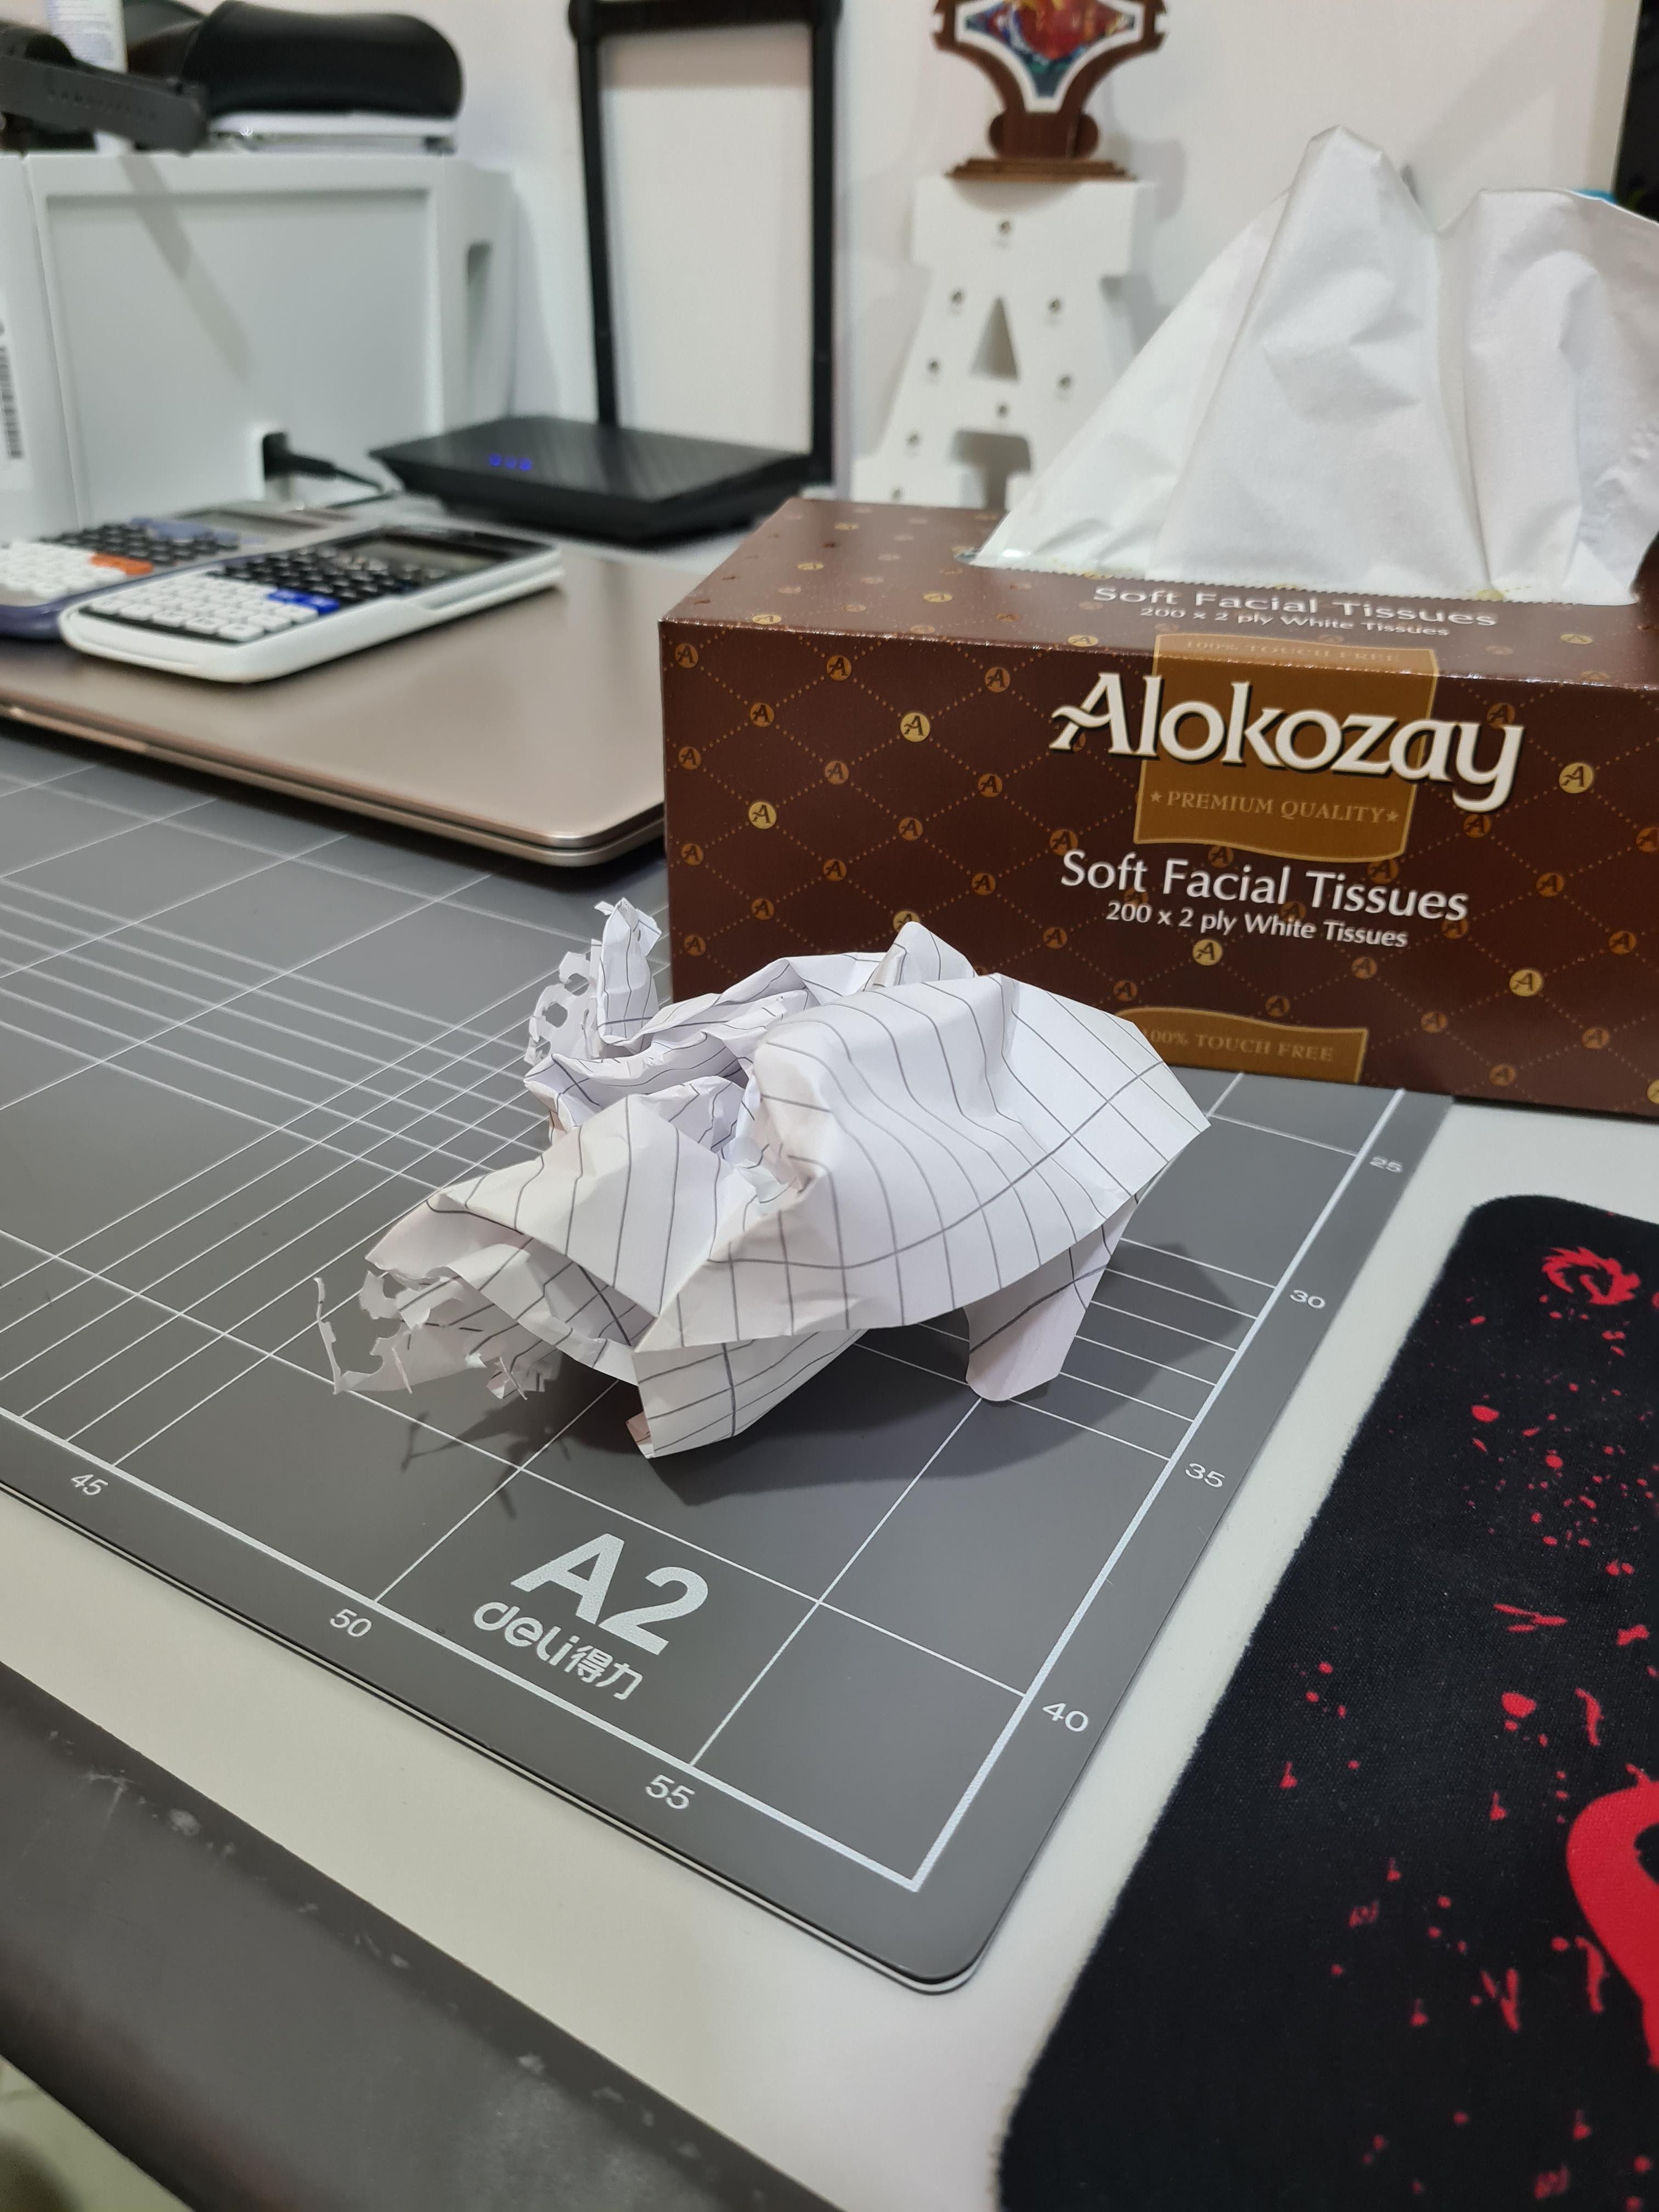Paper: (347, 912, 1198, 1472)
